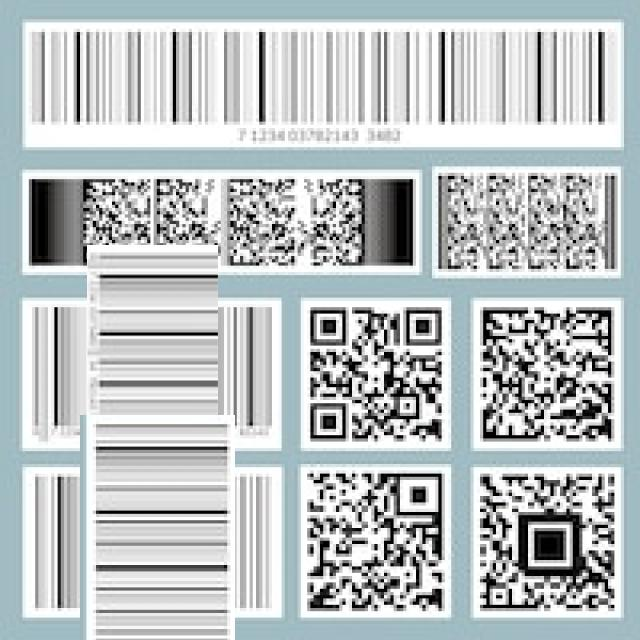Barkod: (25, 26, 613, 132), (52, 441, 261, 640), (56, 276, 249, 469)
